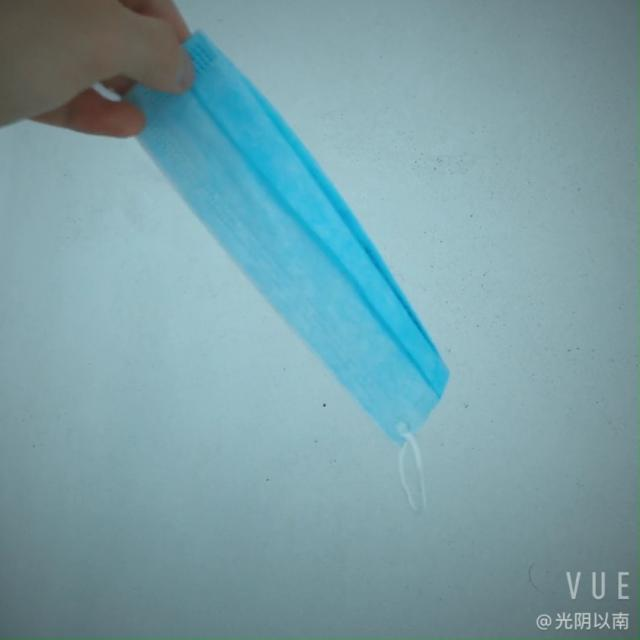face mask: (108, 28, 462, 428)
